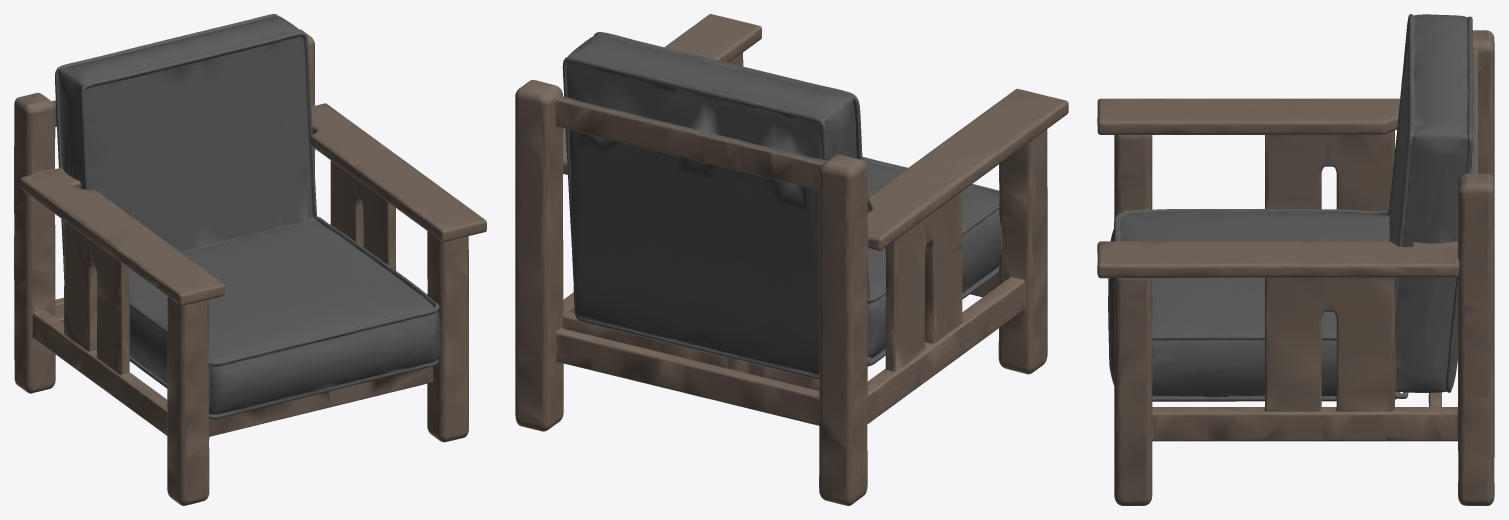
Rendered from kursii.glb.
The picture shows the model from 3 angles, left to right: view 1: azimuth 30°, elevation 25°; view 2: azimuth 150°, elevation 25°; view 3: azimuth 270°, elevation 25°; orthographic projection. The views are drawn at different scales.
Parts seen in each view (by area): view 1: Mesh_0; view 2: Mesh_0; view 3: Mesh_0.
Part boxes in pixels (x1=…): Mesh_0: x1=14, y1=14, x2=486, y2=505; Mesh_0: x1=515, y1=14, x2=1068, y2=505; Mesh_0: x1=1097, y1=14, x2=1494, y2=505.
Bounding box in the file's own units: 1 × 1 × 1.
1 material, 1 textured.
